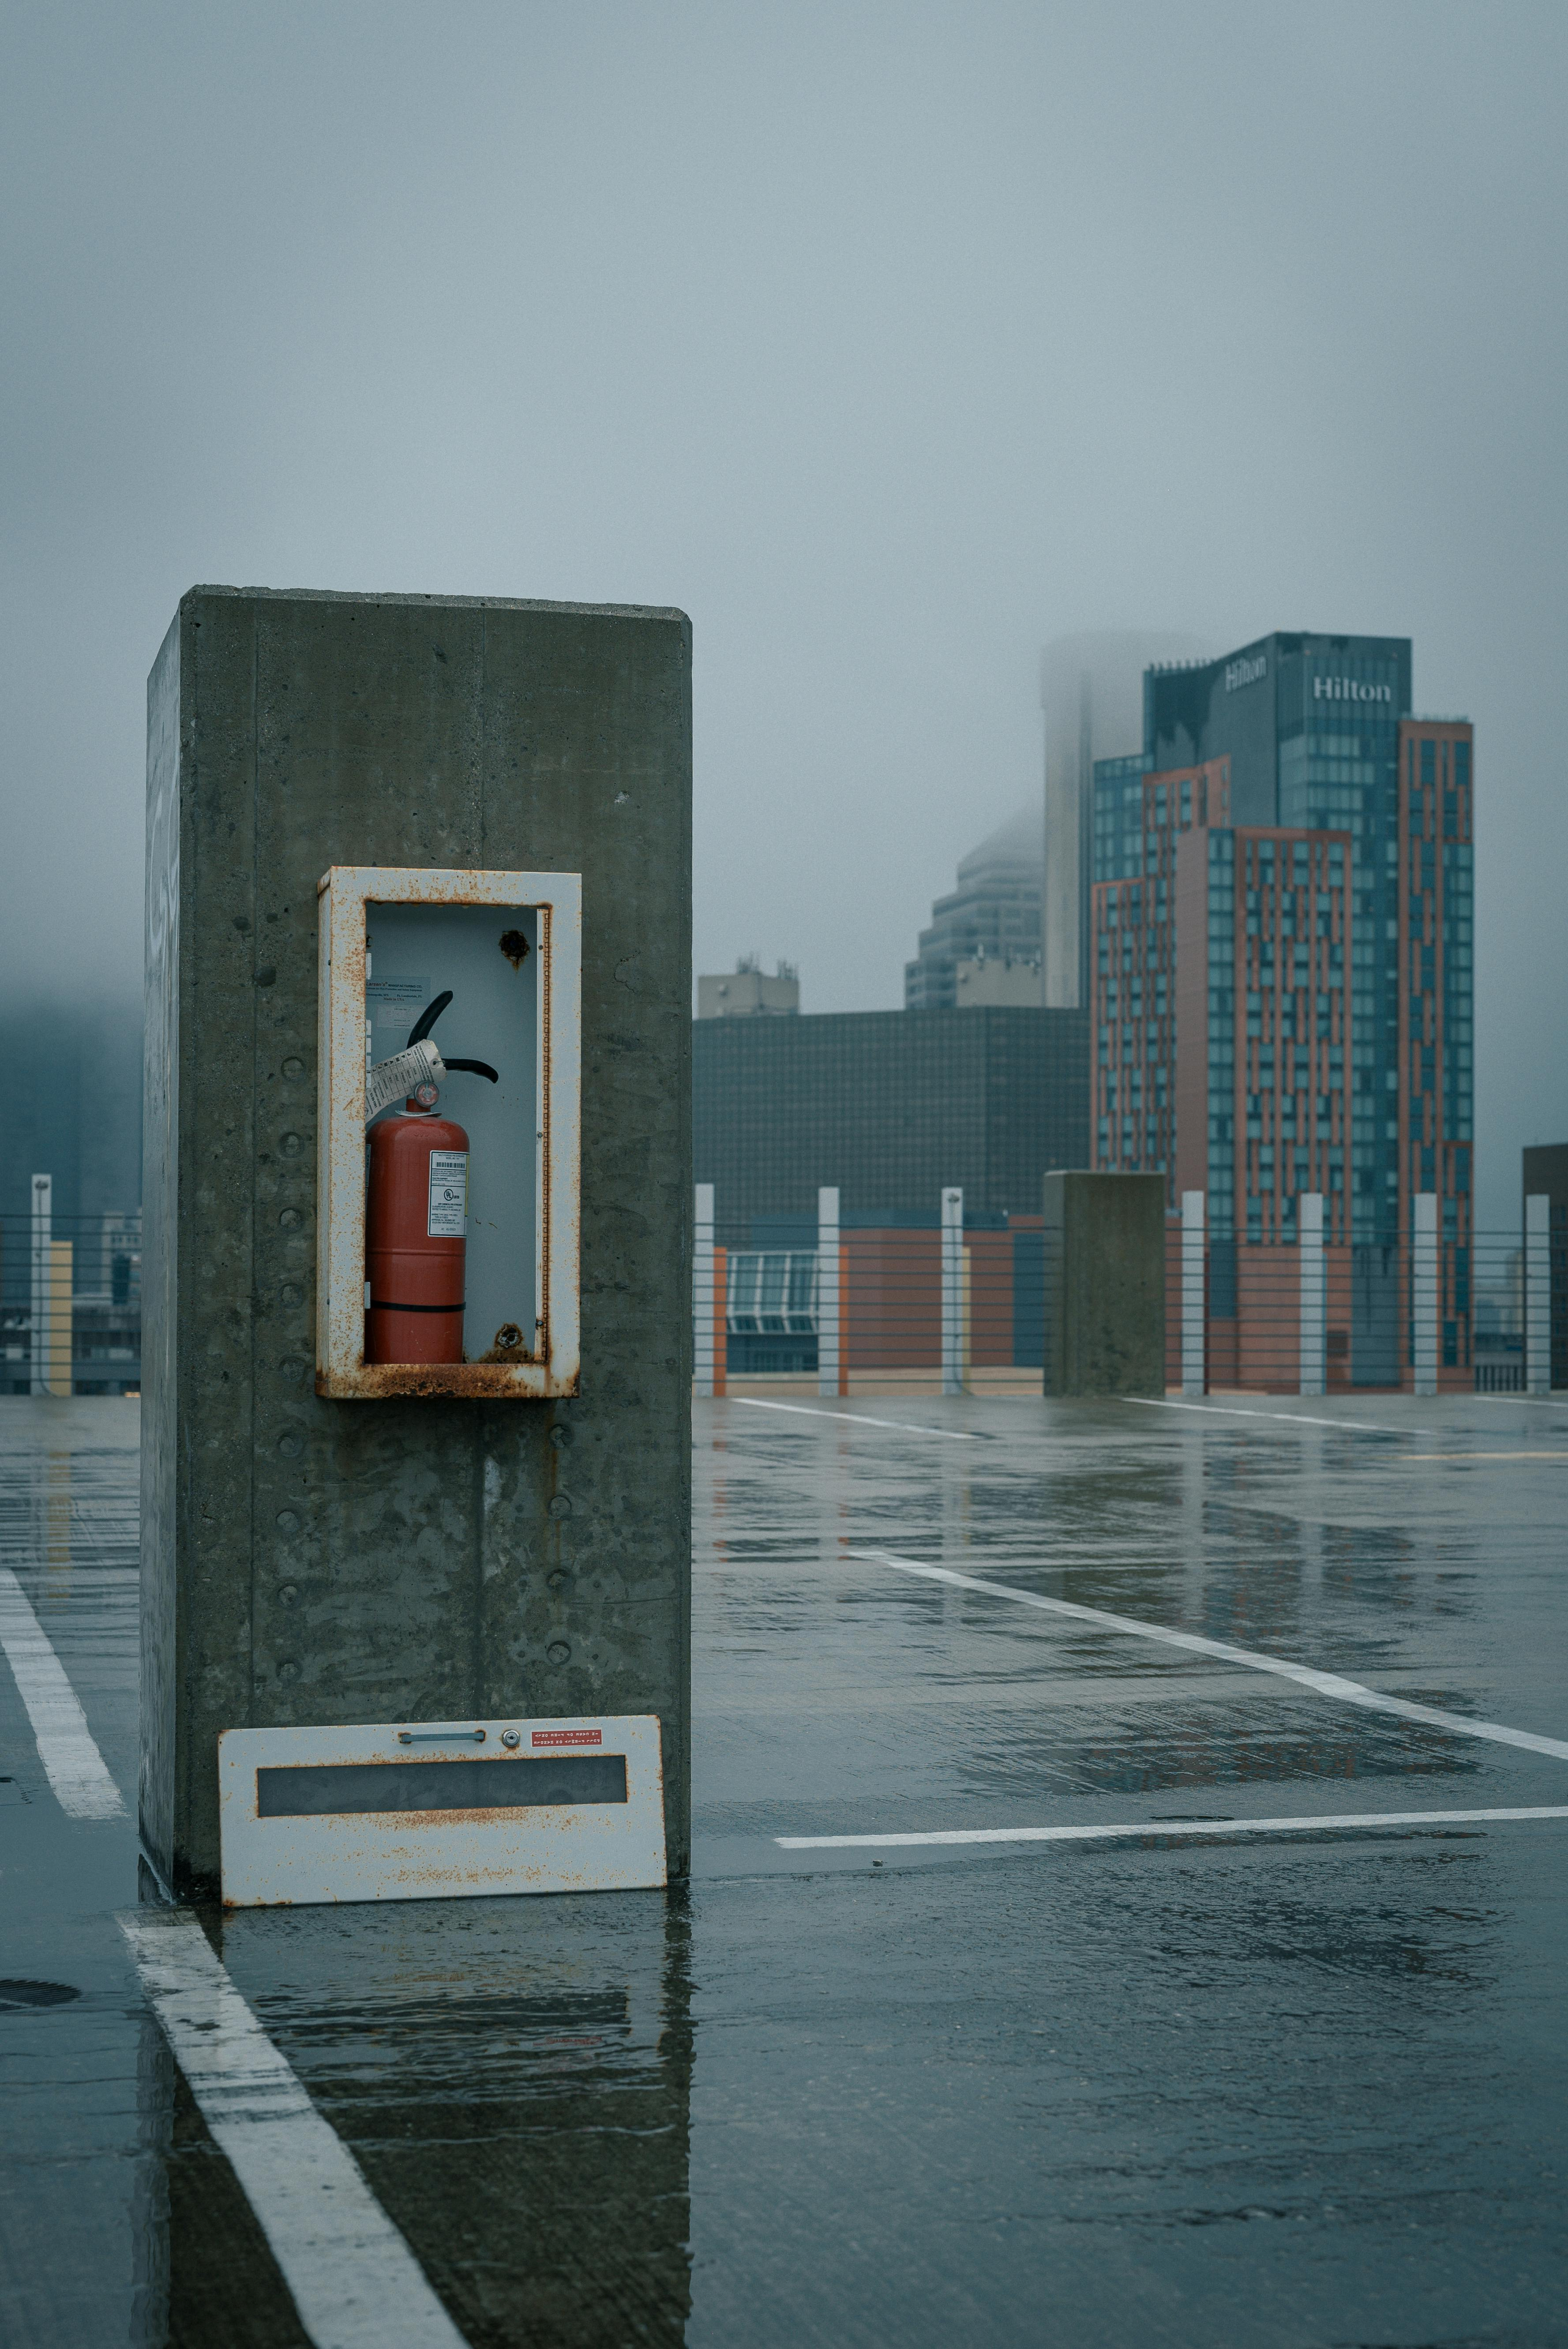extintor: (359, 982, 504, 1371)
